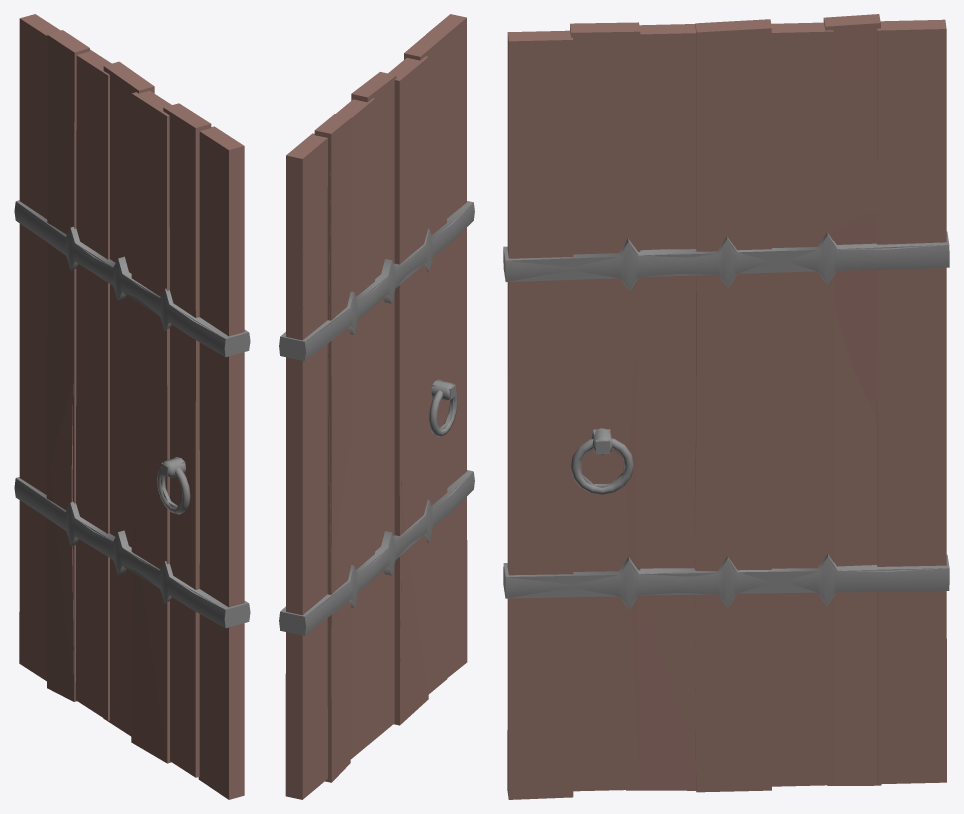
File: Wooden_Door_1.fbx
3 views of the same model, side by side, from view 1: azimuth 30°, elevation 25°; view 2: azimuth 150°, elevation 25°; view 3: azimuth 270°, elevation 25° (orthographic). The views are drawn at different scales.
Visible parts, largest first — view 1: Wooden_Door_1_LOD0, Wooden_Door_1; view 2: Wooden_Door_1_LOD0, Wooden_Door_1; view 3: Wooden_Door_1_LOD0, Wooden_Door_1.
Boxes of the visible parts, x1,y1,x2,y2 form: Wooden_Door_1_LOD0: [16, 14, 248, 799]; Wooden_Door_1: [14, 34, 250, 777]; Wooden_Door_1_LOD0: [280, 14, 473, 799]; Wooden_Door_1: [279, 130, 474, 782]; Wooden_Door_1_LOD0: [503, 14, 949, 799]; Wooden_Door_1: [503, 23, 949, 790].
Size of the model in its own units: 0.1866 by 2.18 by 1.15.
